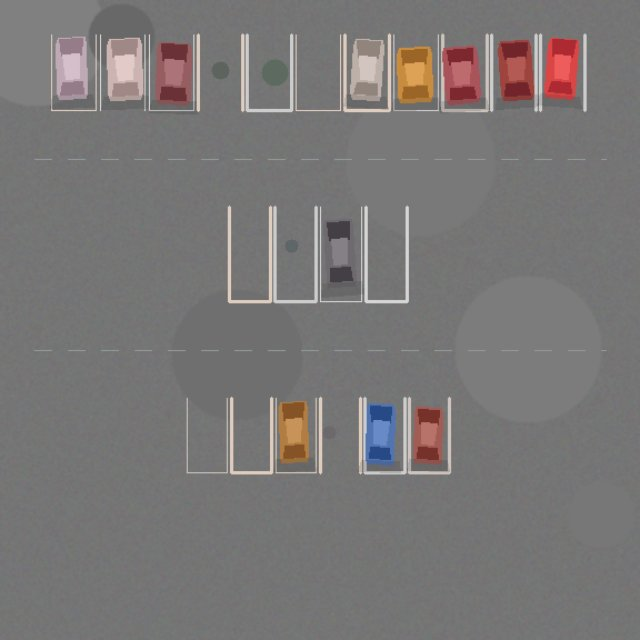space-empty: (274, 207, 316, 301), (229, 207, 270, 301), (366, 207, 407, 301), (198, 34, 242, 110), (247, 34, 291, 110), (296, 34, 340, 110), (187, 398, 227, 472), (231, 398, 271, 472), (320, 398, 360, 472)
space-occupied: (320, 207, 361, 301), (51, 34, 96, 110), (344, 34, 389, 110), (393, 34, 438, 110), (442, 34, 487, 110), (491, 34, 536, 110), (100, 34, 144, 110), (149, 34, 193, 110), (540, 34, 584, 110), (276, 398, 316, 472), (364, 398, 404, 472), (409, 398, 449, 472)
